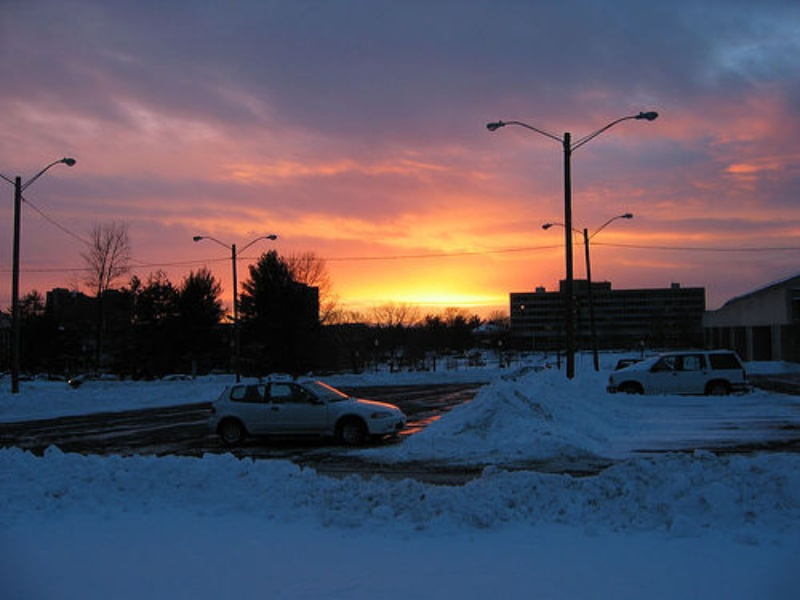car: (209, 380, 406, 440), (607, 350, 748, 397)
